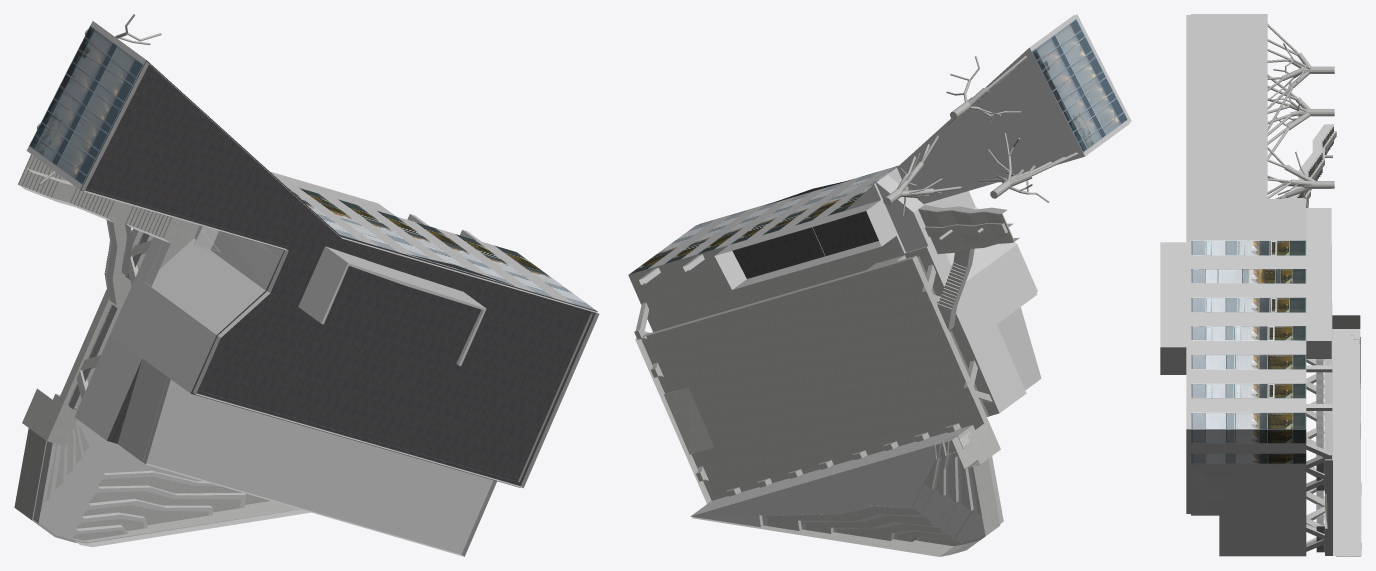
Rendered from Parnu_mnt_13.obj.
The picture shows the model from 3 angles, left to right: view 1: azimuth 30°, elevation 25°; view 2: azimuth 150°, elevation 25°; view 3: azimuth 270°, elevation 25°; orthographic projection. The views are drawn at different scales.
Parts seen in each view (by area): view 1: Parnu_mnt_13; view 2: Parnu_mnt_13; view 3: Parnu_mnt_13.
Boxes of the visible parts, x1,y1,x2,y2 form: Parnu_mnt_13: (14, 14, 599, 556); Parnu_mnt_13: (628, 14, 1131, 556); Parnu_mnt_13: (1160, 14, 1361, 556).
Size of the model in its own units: 49.96 by 54.94 by 23.55.
